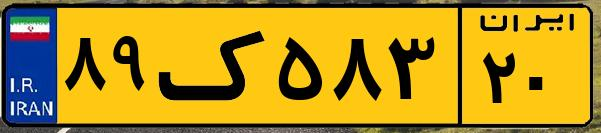0: (525, 38, 570, 115)
2: (475, 38, 525, 113)
3: (385, 28, 445, 110)
5: (270, 28, 330, 110)
8: (330, 28, 385, 110), (57, 26, 110, 100)
9: (110, 28, 158, 98)
ک: (158, 12, 270, 120)
